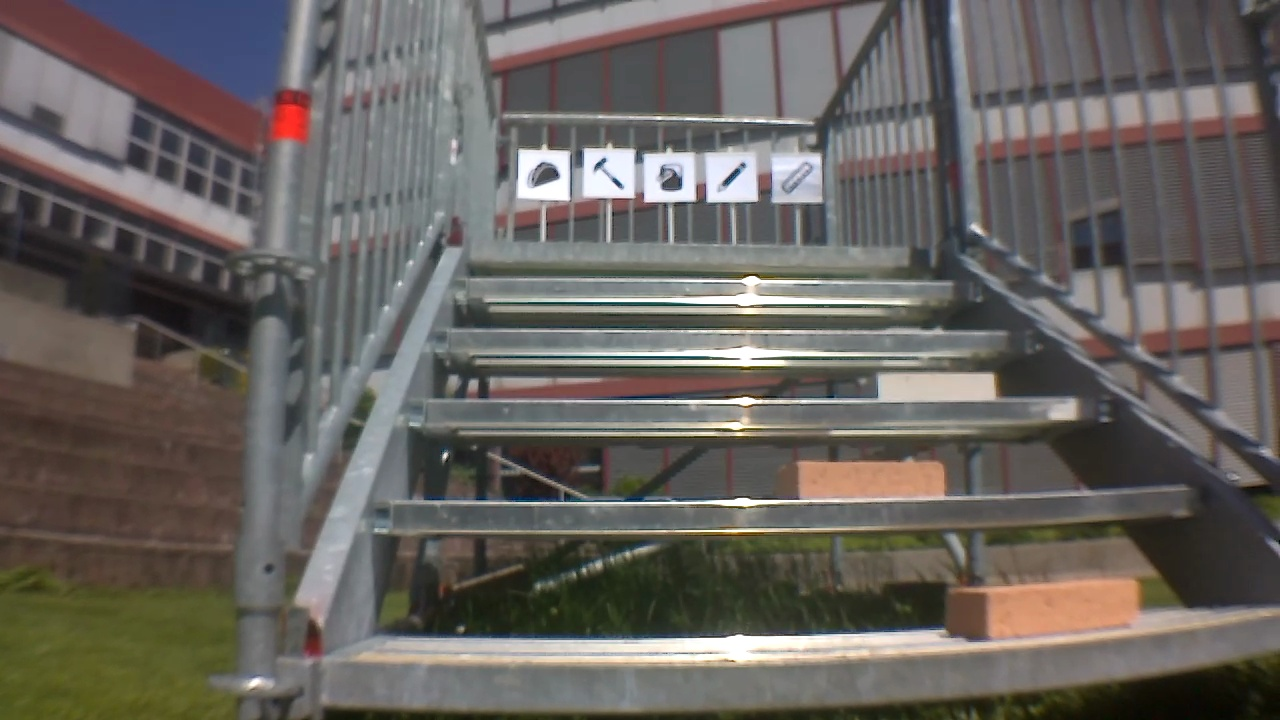brick: (945, 570, 1143, 639), (777, 458, 947, 502), (864, 370, 999, 403)
edge: (319, 606, 1280, 711), (361, 479, 1195, 539), (404, 395, 1125, 432), (430, 329, 1043, 357), (438, 282, 987, 306), (460, 246, 957, 271)
stairs: (236, 0, 1280, 715)
steps: (289, 250, 1280, 710)
